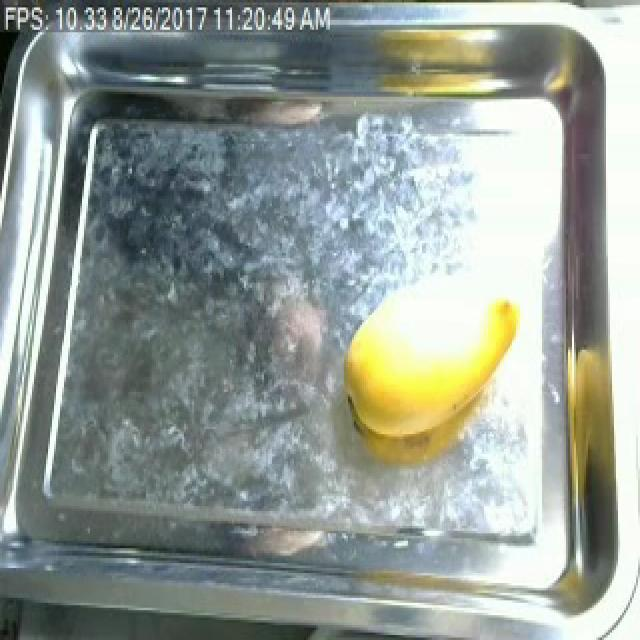fruit: (332, 290, 530, 454)
